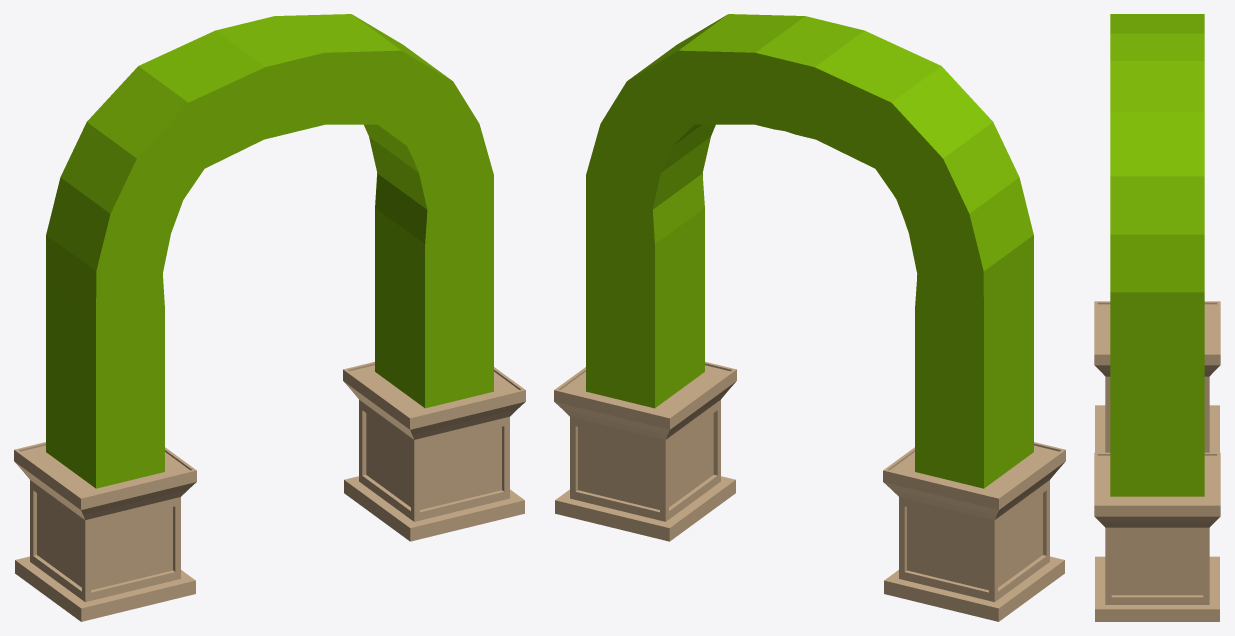
The model's file is Hedge_Portal.fbx.
3 renders of one model, left to right at view 1: azimuth 30°, elevation 25°; view 2: azimuth 150°, elevation 25°; view 3: azimuth 270°, elevation 25°, orthographic. The views are drawn at different scales.
Parts seen in each view (by area): view 1: Base, Green; view 2: Base, Green; view 3: Base, Green.
Boxes of the visible parts, x1,y1,x2,y2 form: Base: (46, 14, 493, 488); Green: (14, 361, 525, 621); Base: (586, 14, 1033, 488); Green: (554, 361, 1065, 621); Base: (1110, 14, 1204, 496); Green: (1094, 301, 1220, 621).
Bounding box in the file's own units: 8.52 × 9.18 × 2.22.
